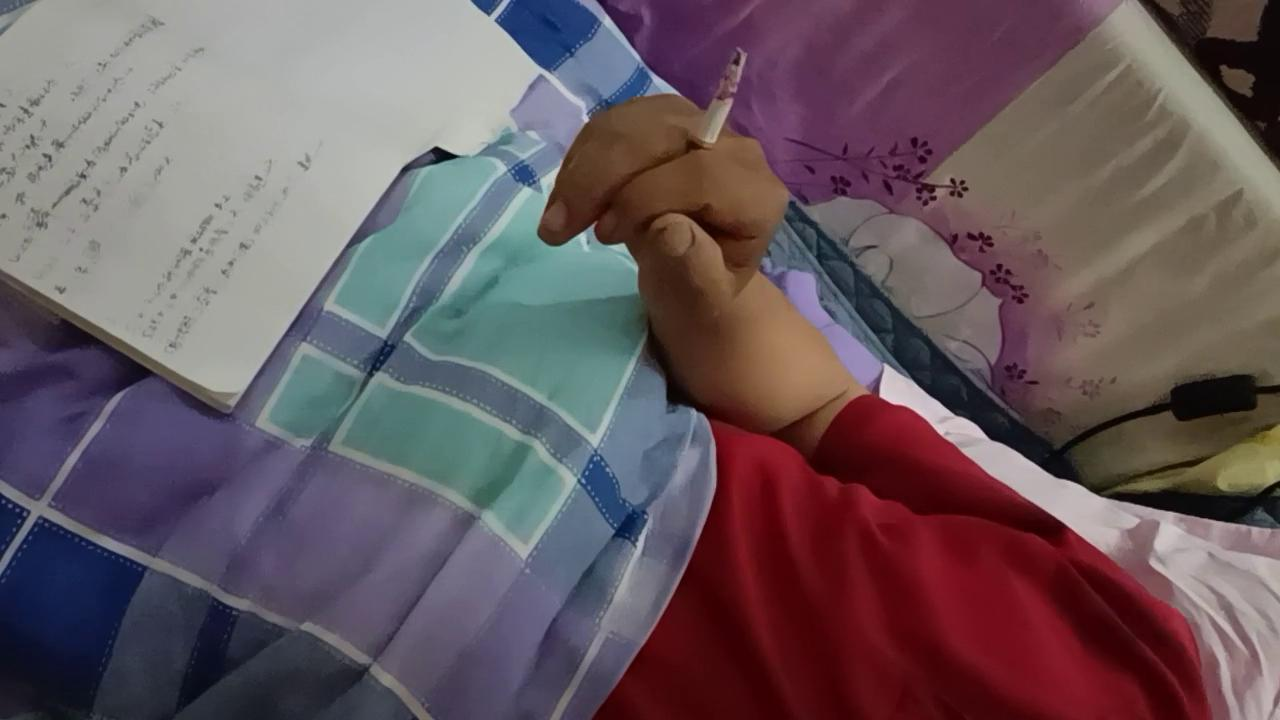smoke: (682, 47, 752, 167)
